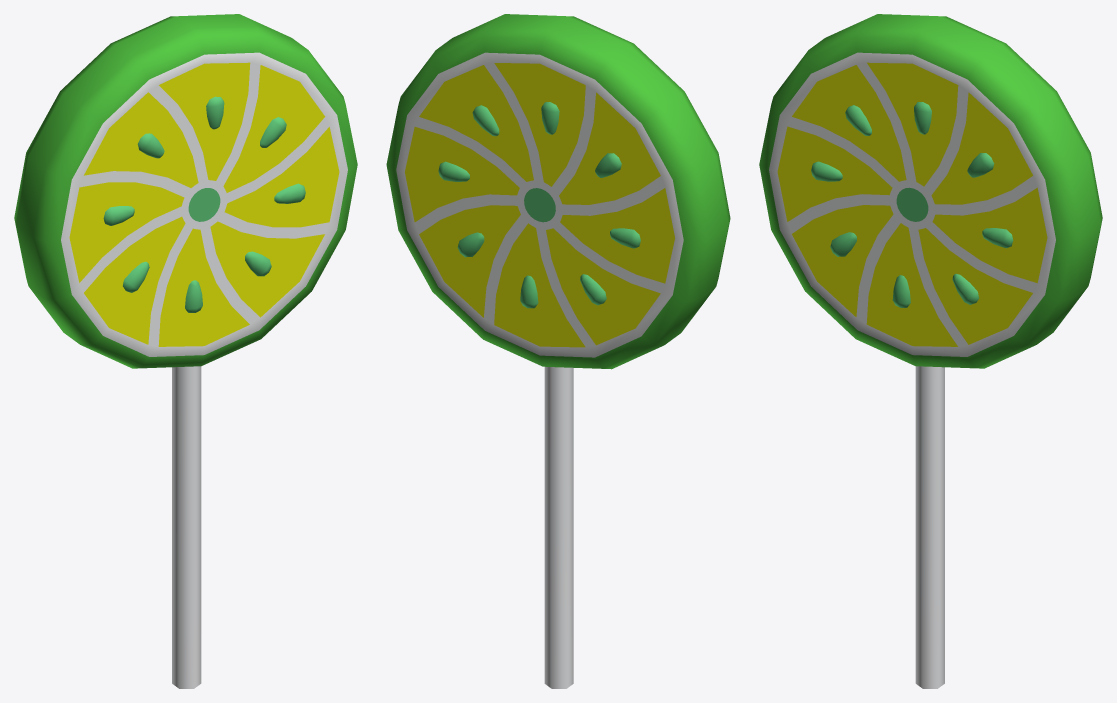
The model's file is lollipop_020.glb.
3 views of the same model, side by side, from view 1: azimuth 30°, elevation 25°; view 2: azimuth 150°, elevation 25°; view 3: azimuth 330°, elevation 25° (orthographic).
Visible parts, largest first — view 1: lollipop_020; view 2: lollipop_020; view 3: lollipop_020.
Boxes of the visible parts, x1,y1,x2,y2 form: lollipop_020: (14,14,357,688); lollipop_020: (386,14,730,688); lollipop_020: (759,14,1102,688).
Bounding box in the file's own units: 2.88 × 5.63 × 0.6702.
1 material, 1 textured.
